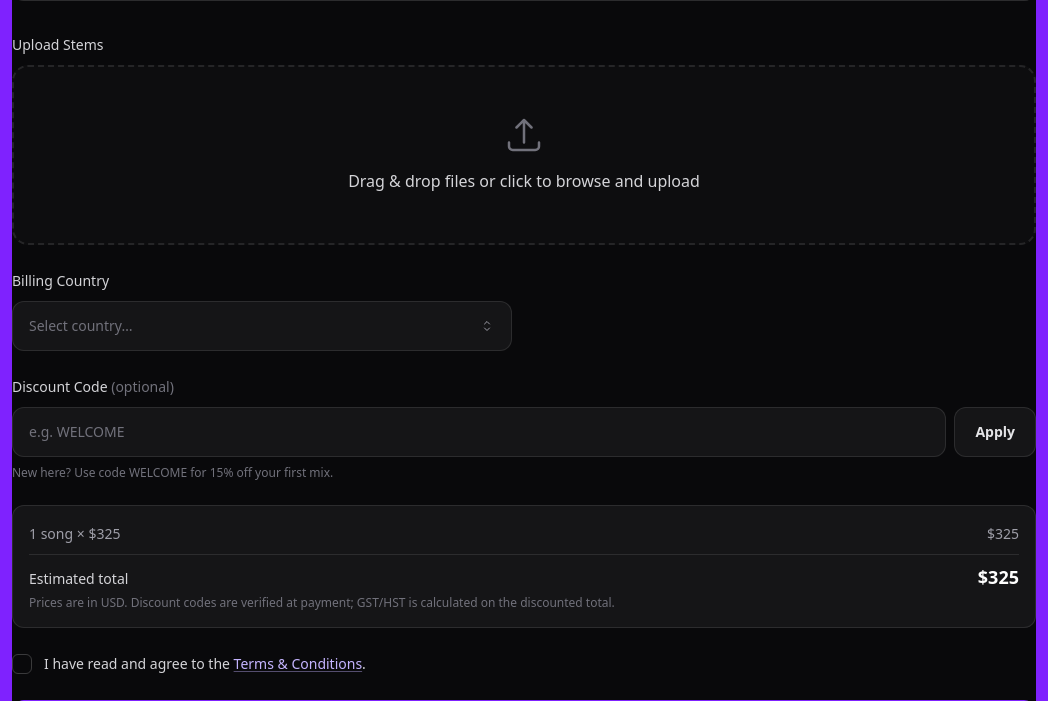
Test: NewProjectForm › applies a code and the live quote shows the discount
(page scrolled)
In the field labelled "Discount Code (optional)": (479, 432) [12,407,946,457], type "SUMMER10"
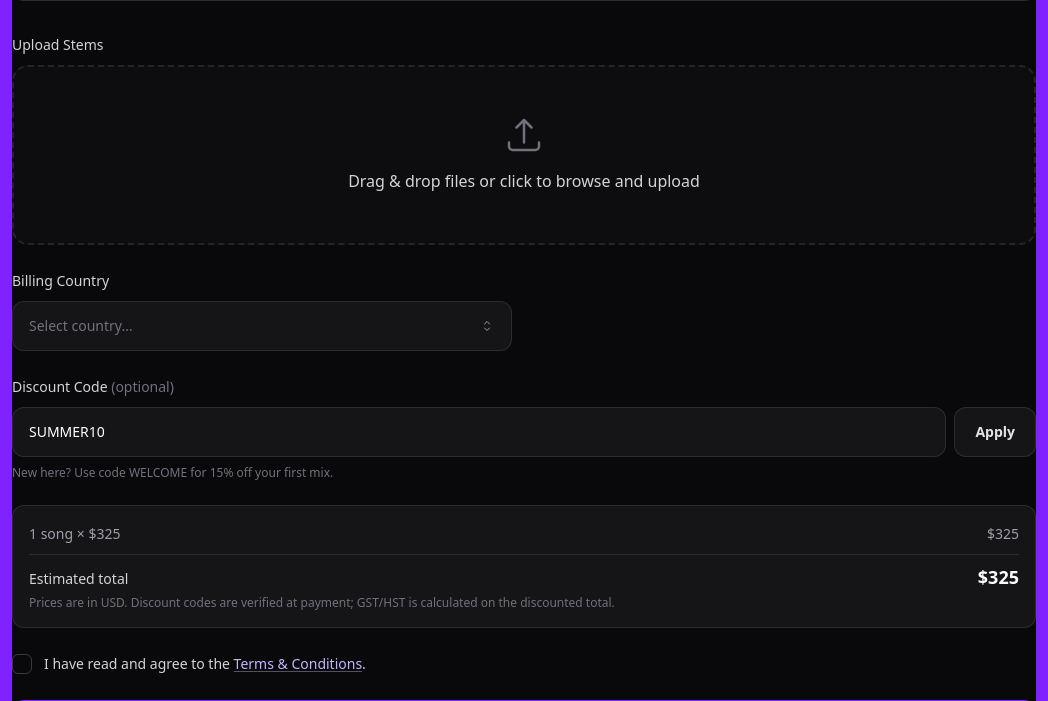
Click the button "Apply": (995, 432) [954,407,1036,457]
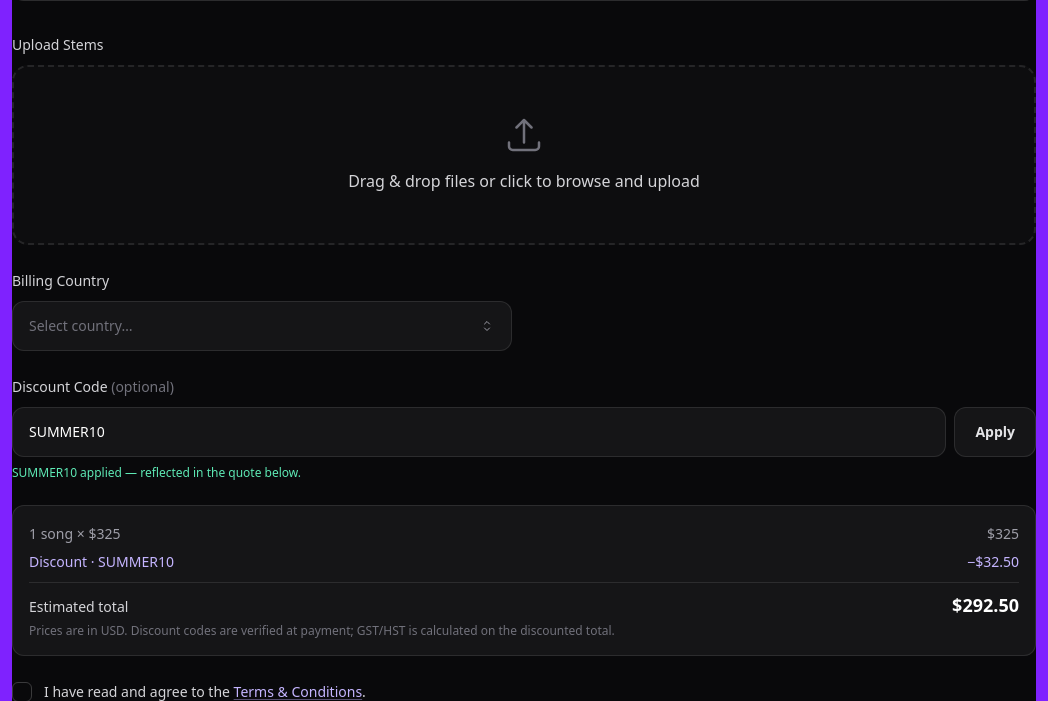
Expected: the text "SUMMER10 applied — reflected in the quote below." is shown, [12,464,301,481]
Expected: the element with test id "live-quote" shows "Discount · SUMMER10", [29,552,174,571]
Expected: the element with test id "live-quote" shows "−$32.50", [12,505,1036,656]
